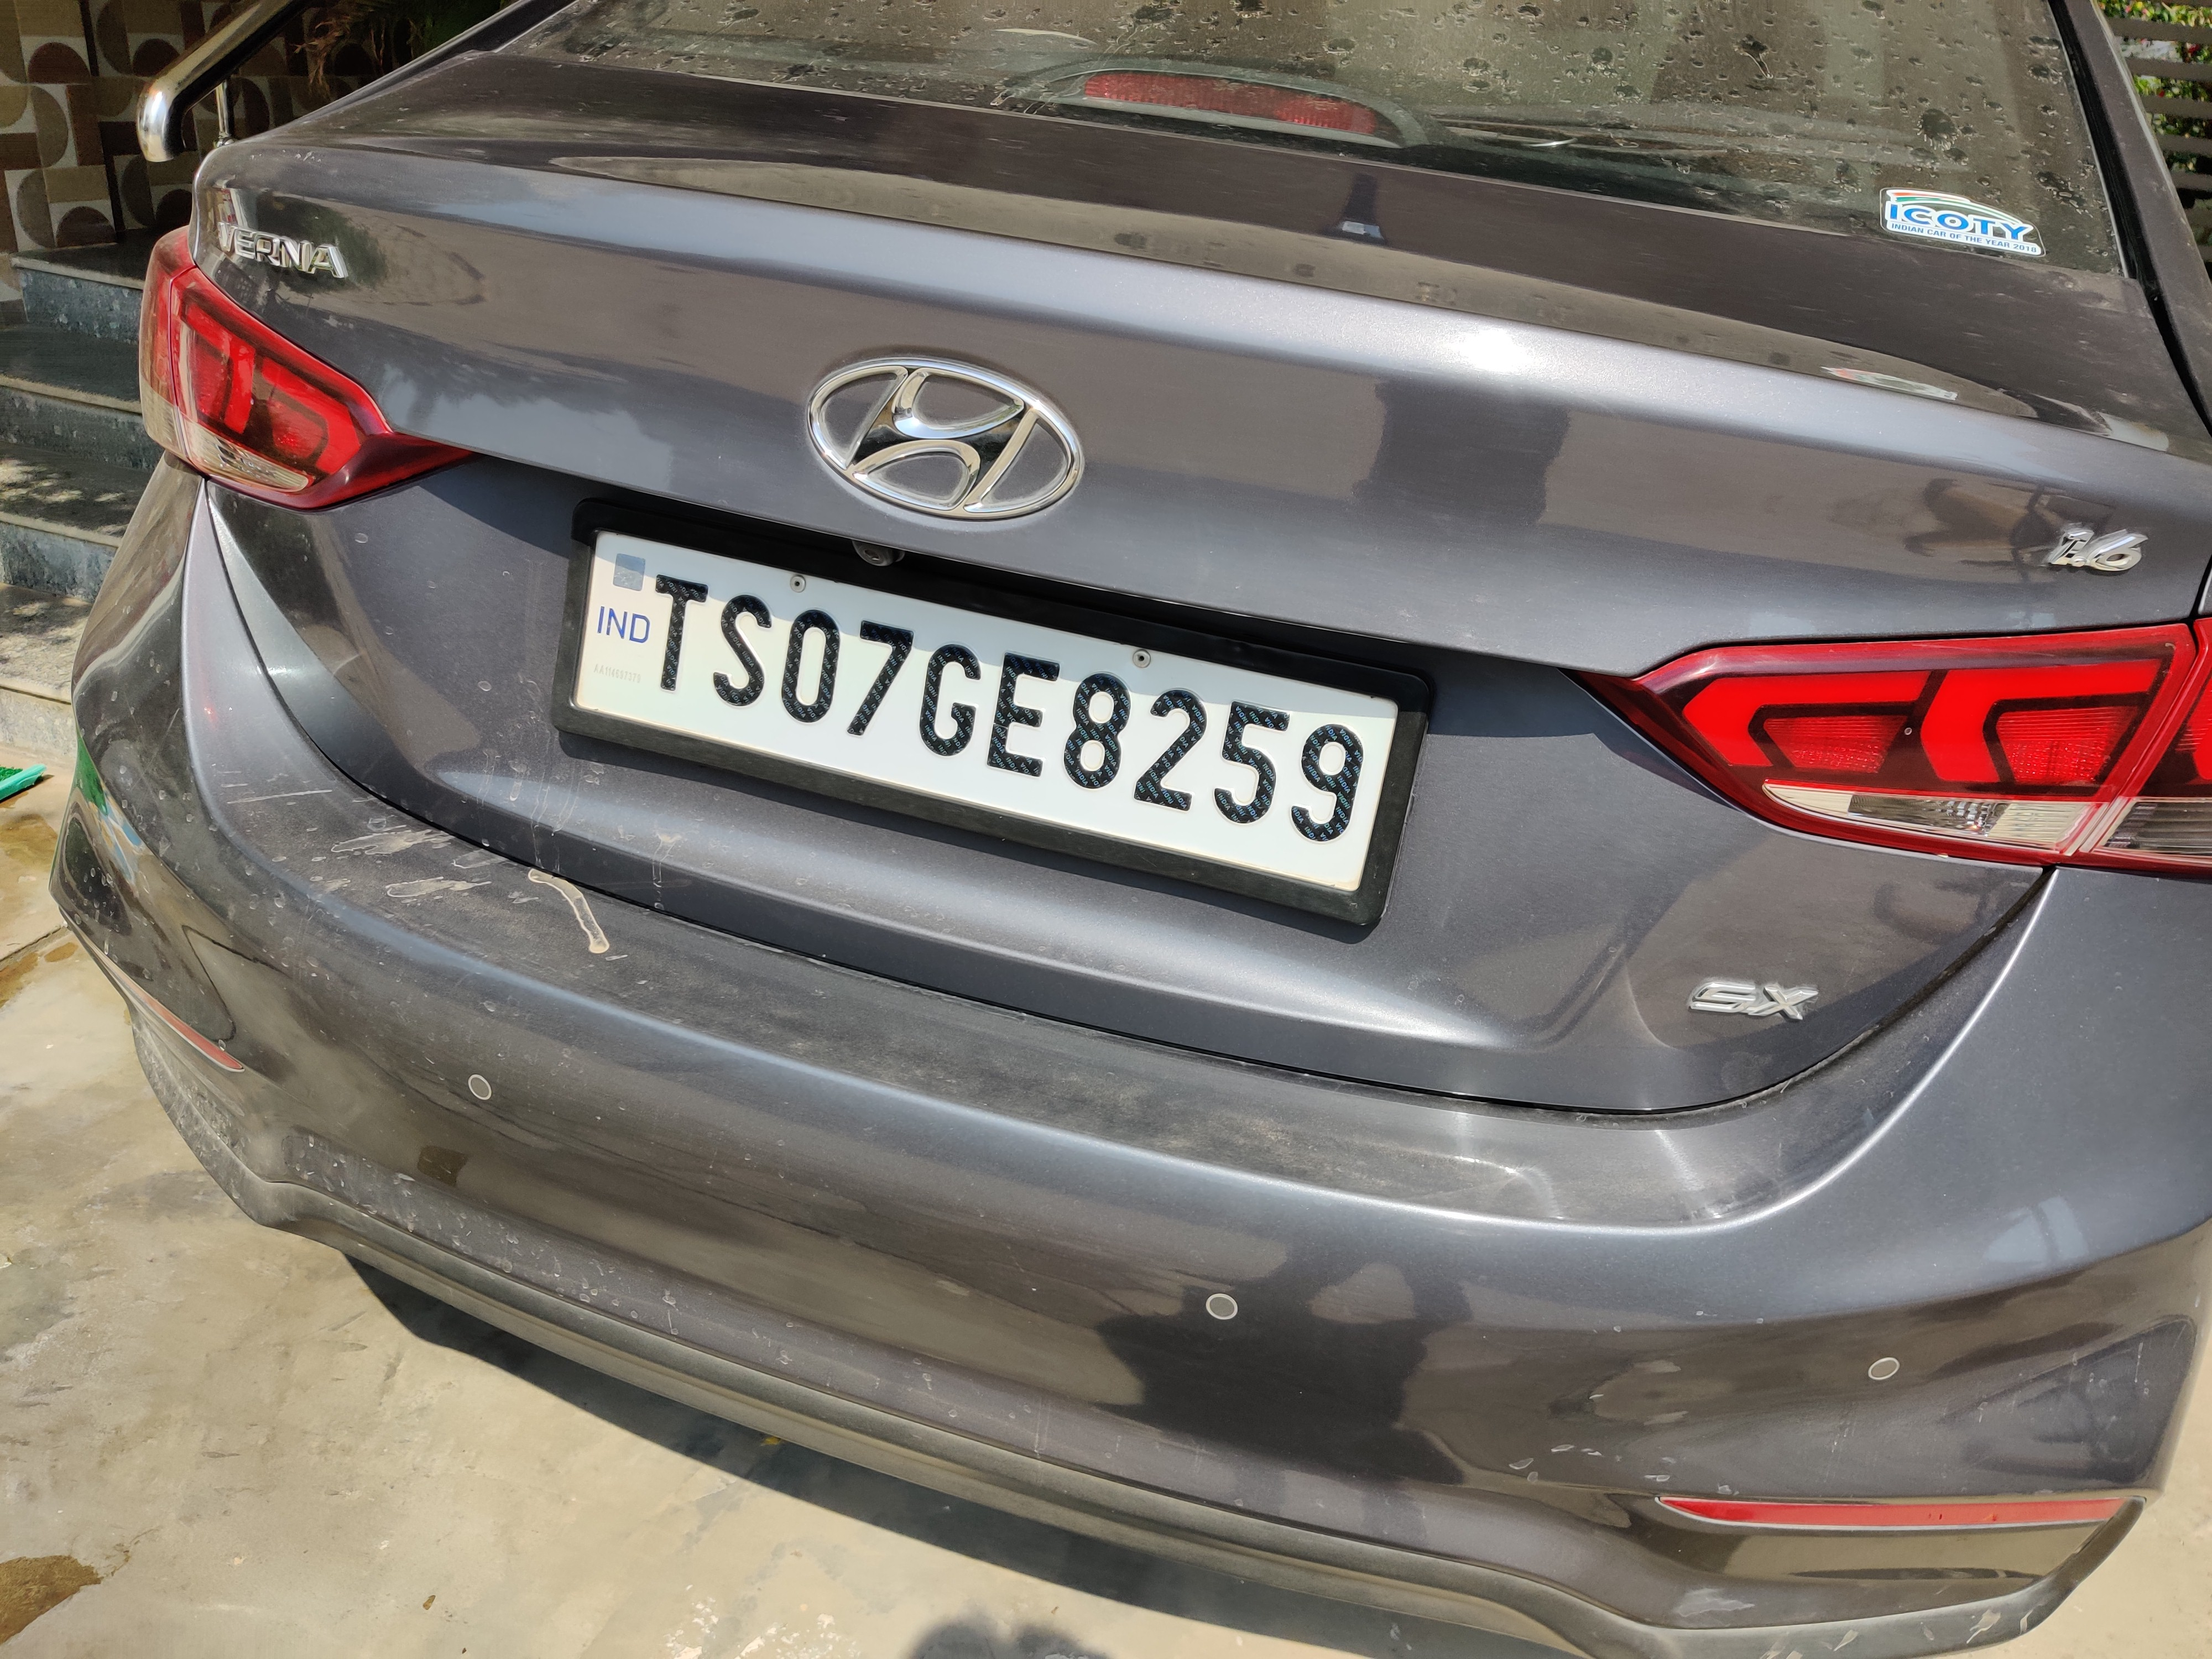plate: (479, 486, 1475, 951)
